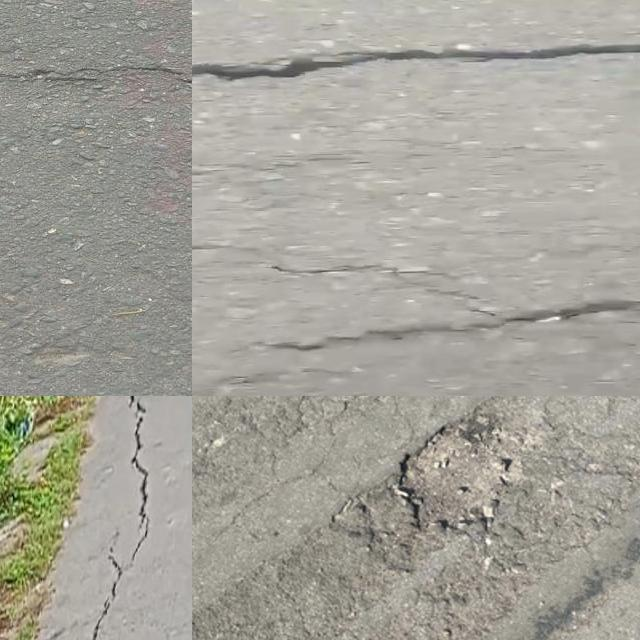Lubang: (399, 414, 529, 542)
Melintang: (260, 292, 640, 363), (192, 33, 640, 93), (0, 57, 192, 98)
Memanjang: (77, 396, 159, 640)
